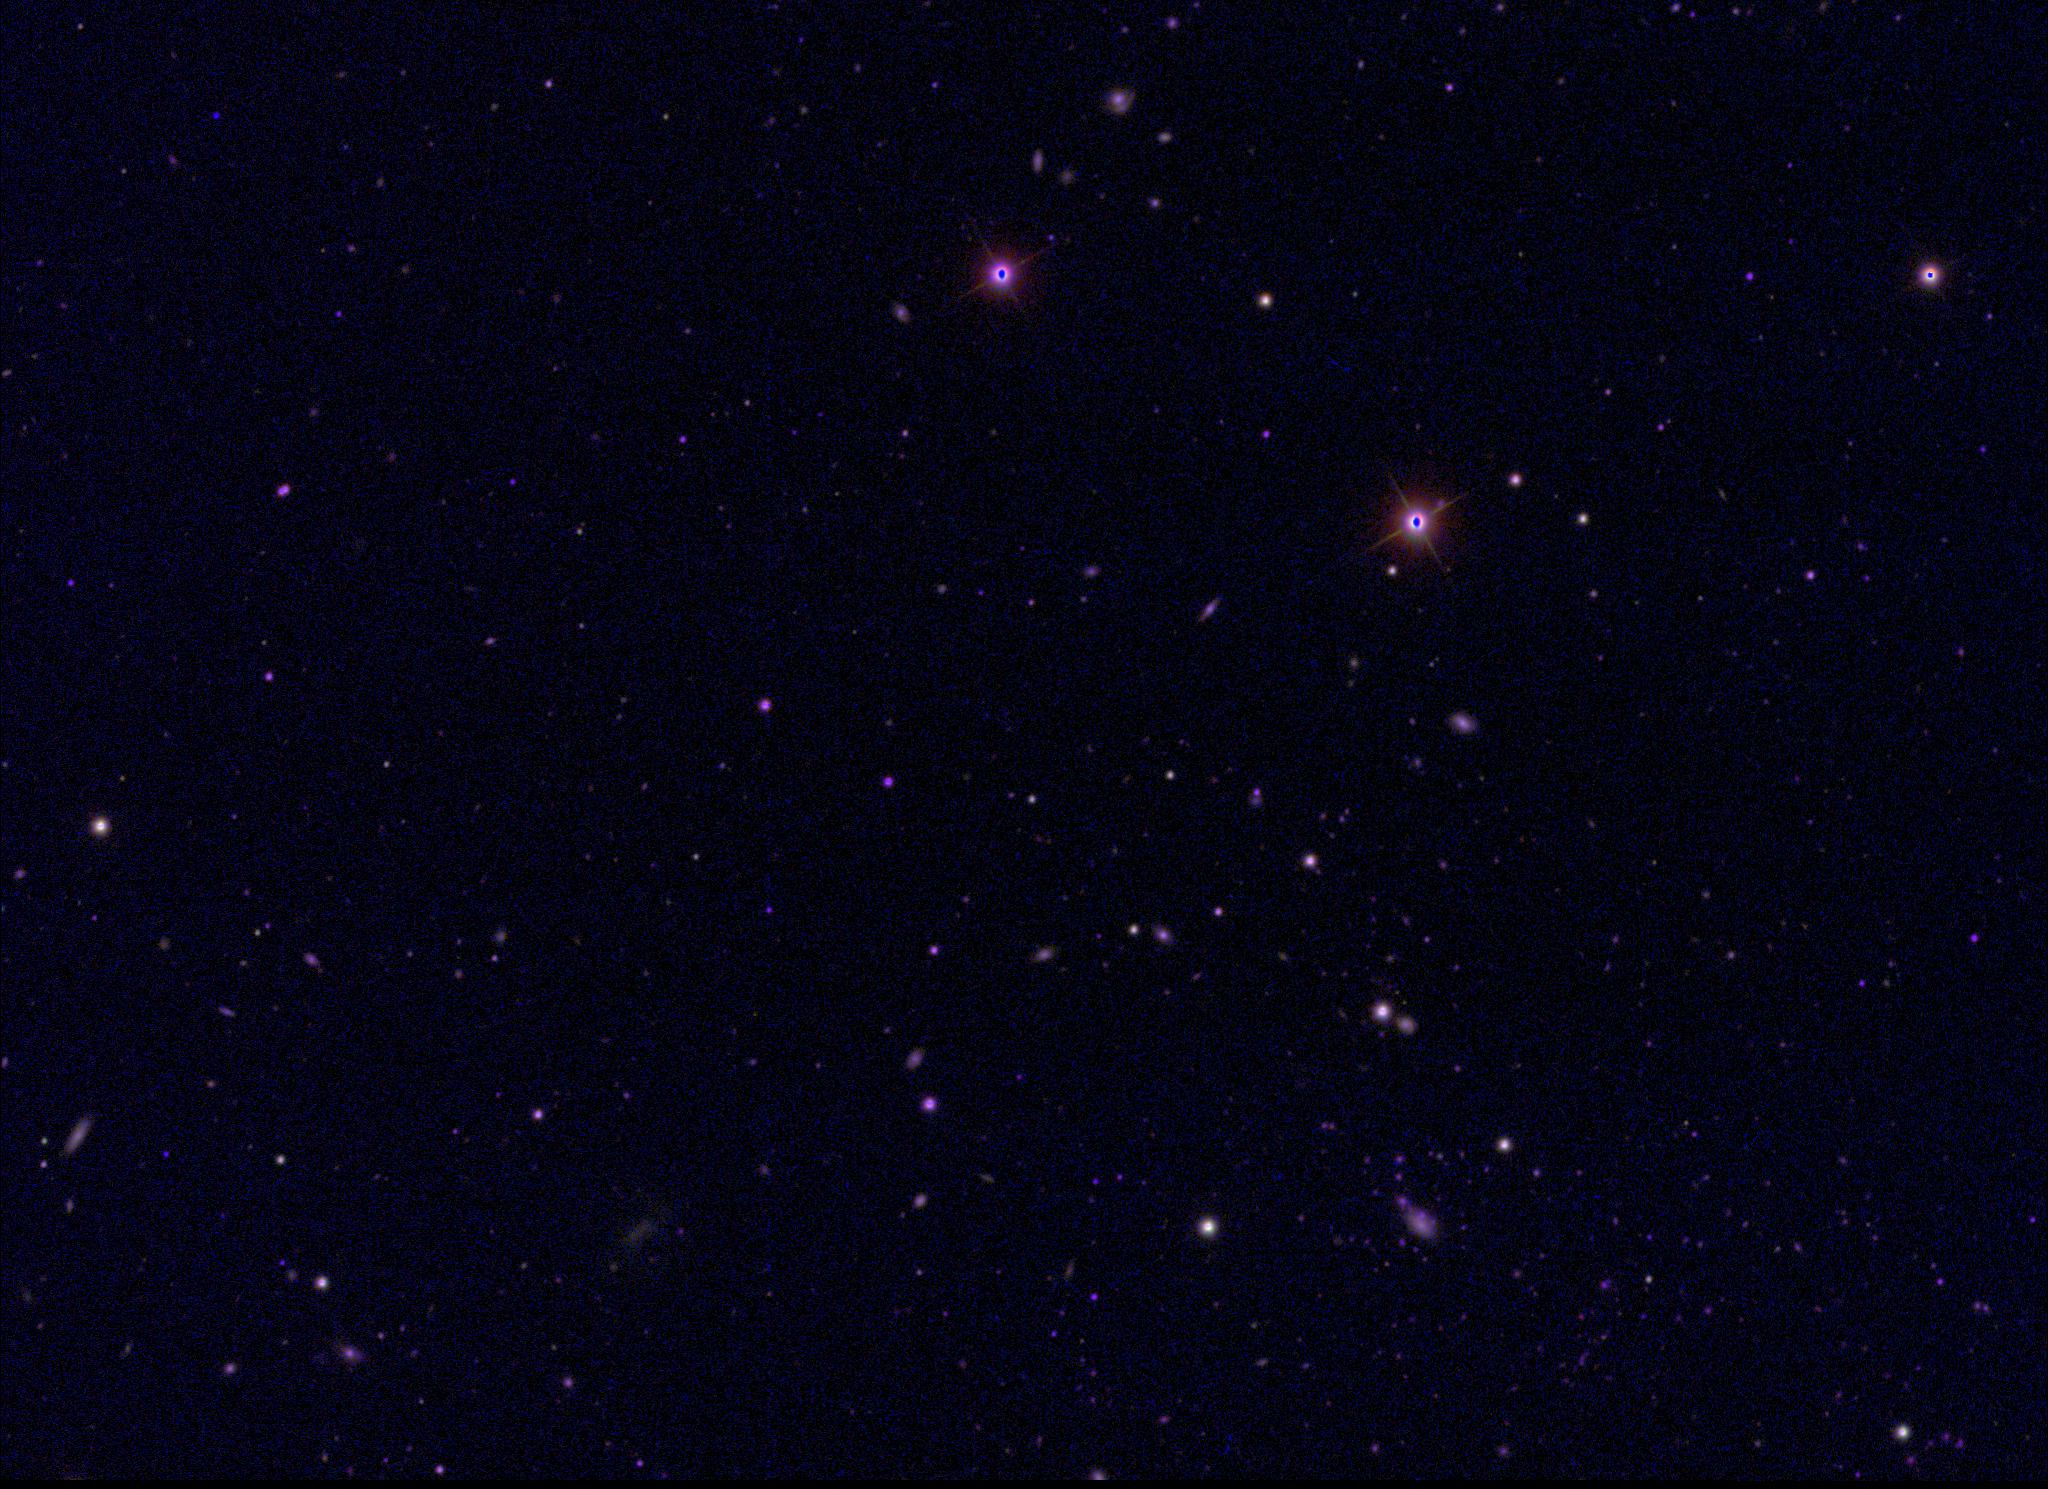L: (208, 105, 223, 119)
